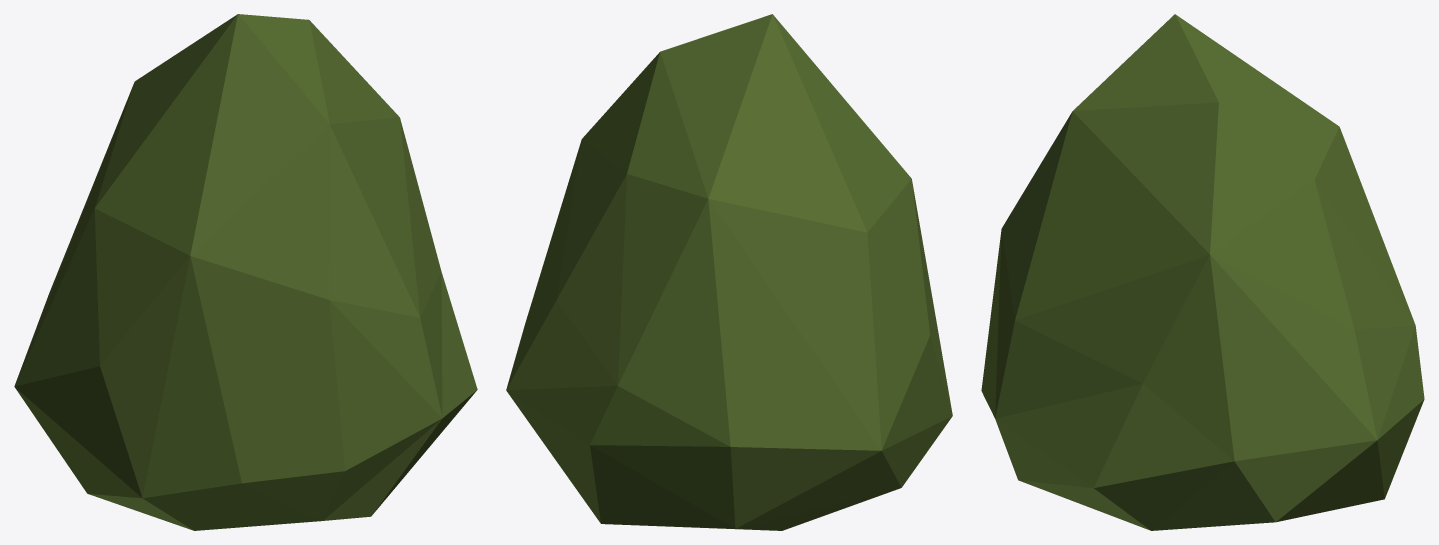
Rendered from samurai_SM_Gen_Env_Bush_Part_04.gltf.
3 views of the same model, side by side, from view 1: azimuth 30°, elevation 25°; view 2: azimuth 150°, elevation 25°; view 3: azimuth 270°, elevation 25° (orthographic). The views are drawn at different scales.
Visible parts, largest first — view 1: SM_Gen_Env_Bush_Part_04; view 2: SM_Gen_Env_Bush_Part_04; view 3: SM_Gen_Env_Bush_Part_04.
Part boxes in pixels (bbox=[...]): SM_Gen_Env_Bush_Part_04: bbox=[14, 14, 477, 530]; SM_Gen_Env_Bush_Part_04: bbox=[506, 14, 952, 530]; SM_Gen_Env_Bush_Part_04: bbox=[981, 14, 1424, 530].
Size of the model in its own units: 0.9249 by 1.09 by 0.9305.
Materials: 1 (1 with a texture image).
